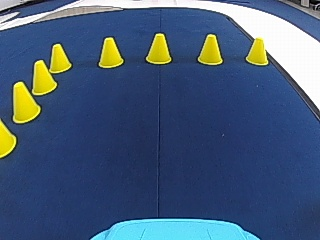cone: (11, 79, 40, 123), (31, 58, 57, 95), (145, 32, 172, 64), (97, 36, 124, 68), (198, 33, 222, 65), (48, 42, 72, 73), (245, 37, 269, 66), (0, 119, 16, 157)
